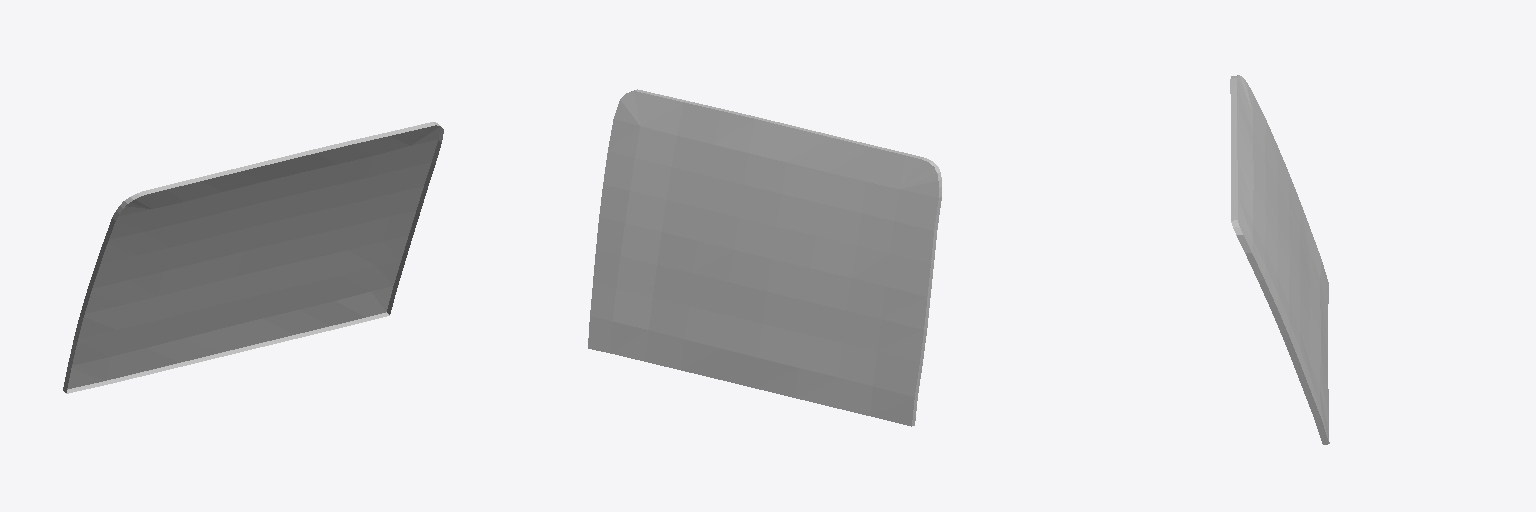
3 renders of one model, left to right at view 1: azimuth 30°, elevation 25°; view 2: azimuth 150°, elevation 25°; view 3: azimuth 270°, elevation 25°, orthographic.
Visible parts, largest first — view 1: U805_4A_305B_L_1_DTaSI_U805_4A_305B_L; view 2: U805_4A_305B_L_1_DTaSI_U805_4A_305B_L; view 3: U805_4A_305B_L_1_DTaSI_U805_4A_305B_L.
Part boxes in pixels (left/top/right/bottom): U805_4A_305B_L_1_DTaSI_U805_4A_305B_L: left=63, top=122, right=443, bottom=393; U805_4A_305B_L_1_DTaSI_U805_4A_305B_L: left=588, top=89, right=941, bottom=426; U805_4A_305B_L_1_DTaSI_U805_4A_305B_L: left=1230, top=75, right=1329, bottom=444.
Bounding box in the file's own units: 68.74 × 44.19 × 17.54.